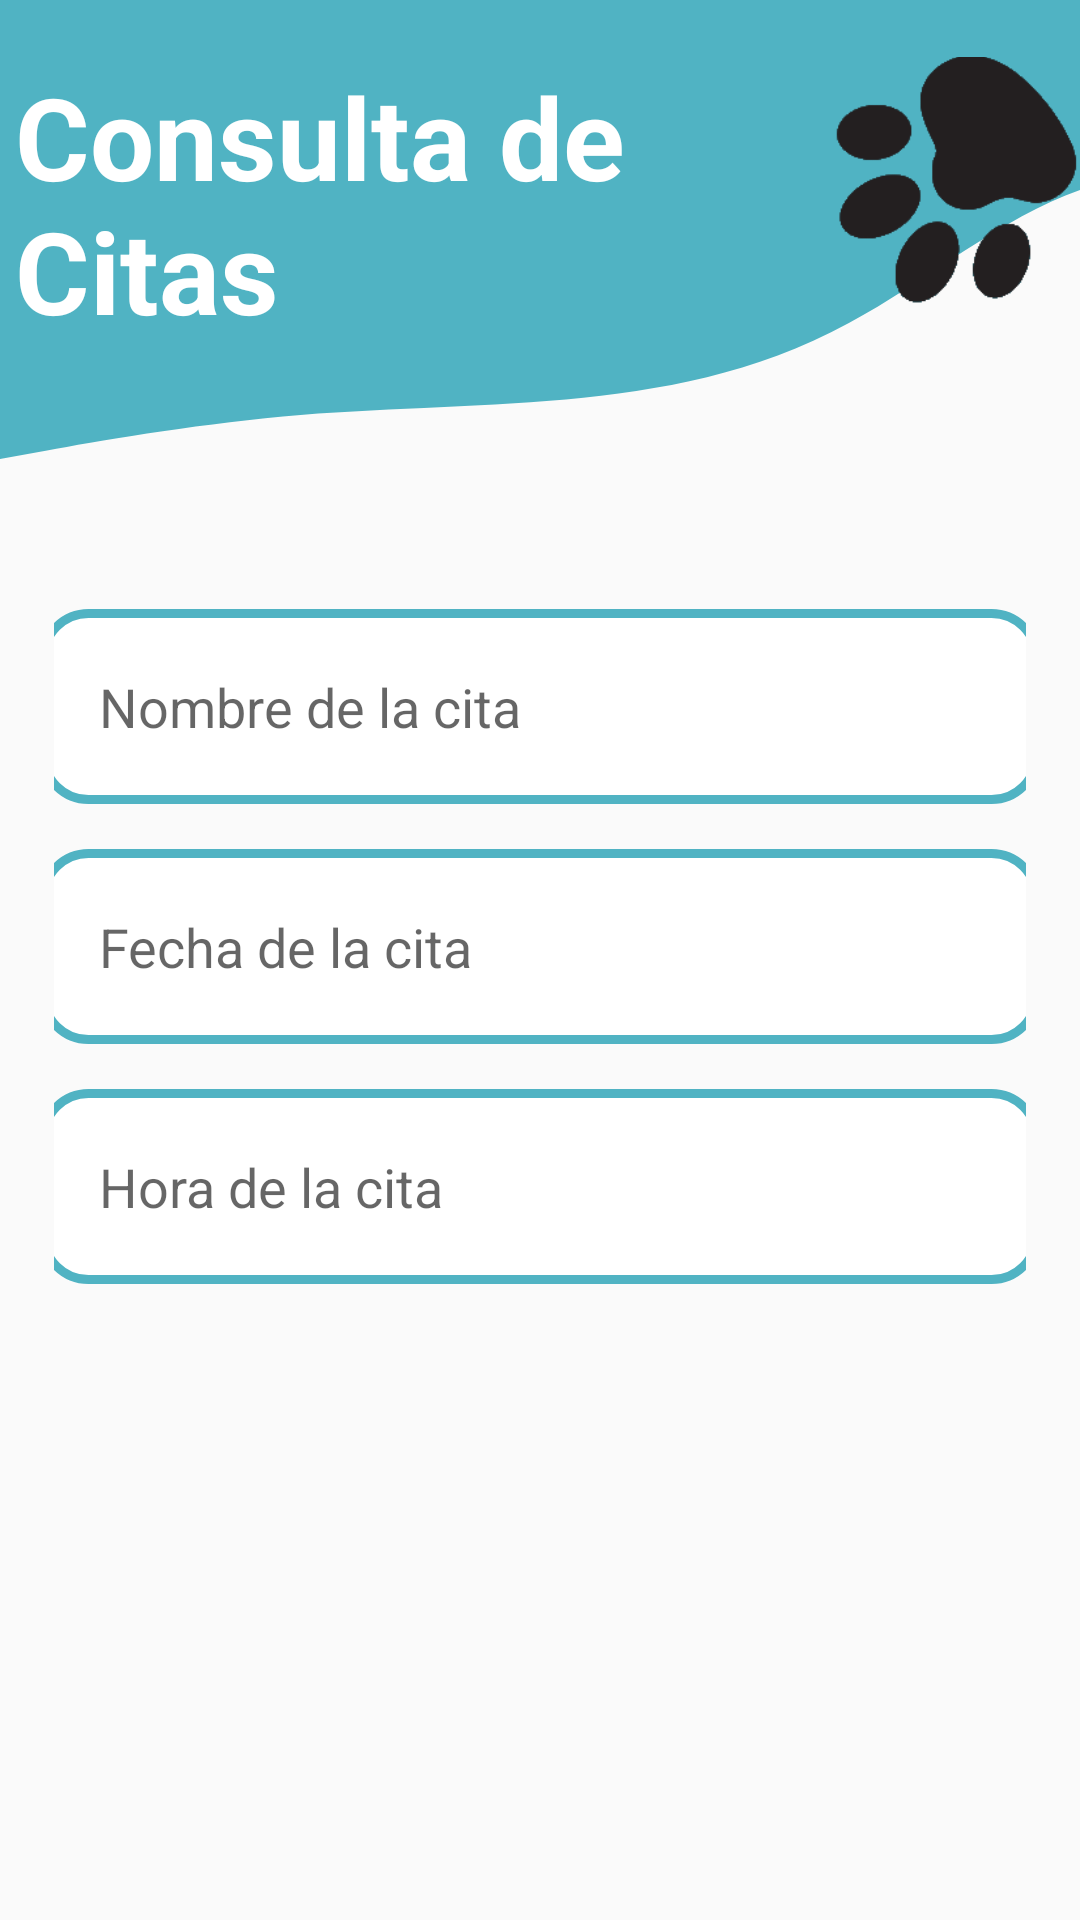

Screen size 1080 × 1920. Icon name, then its center in pixels as (x=x, y=y):
pata: (x=937, y=214)
